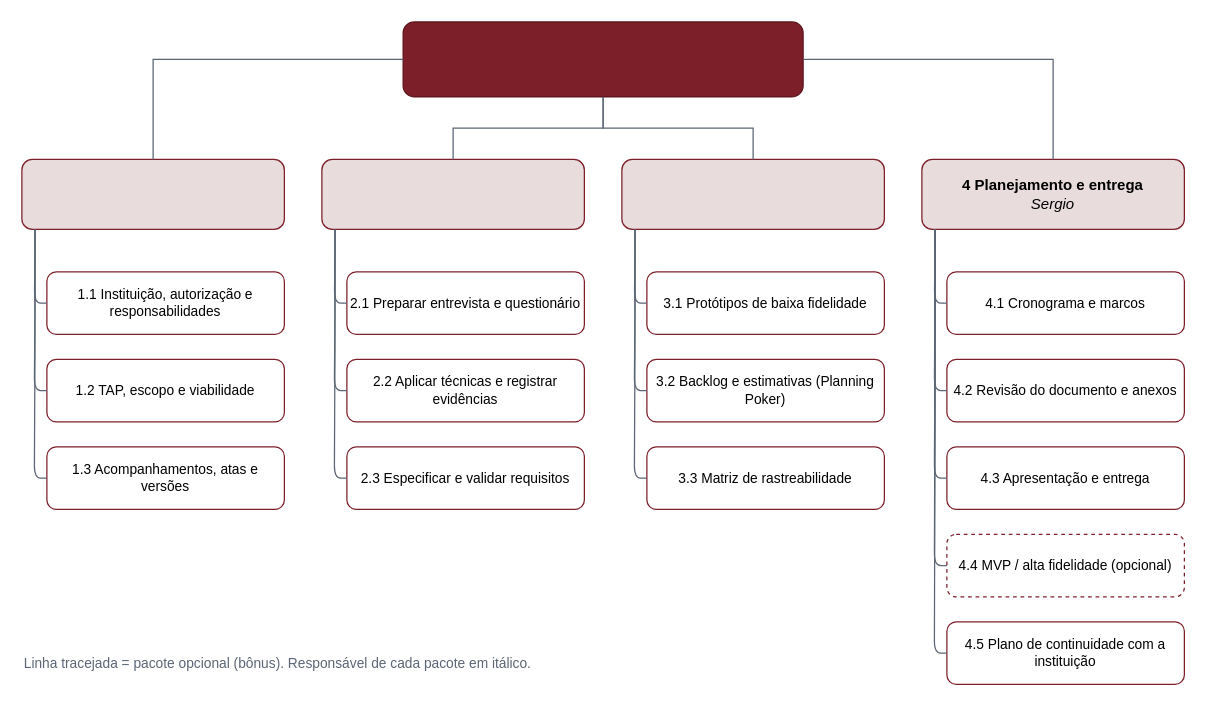
Image size: 1206x706. Some labels were removed from this diagram. The shapes that lost their labels are listed below. From the top down, each one's box as (x1, y1, x2, y2) in pixels, then its label:
(402, 21, 803, 97): Projeto Extensionista — SCCD Sistema de Cadastro e Controle de Doações
(21, 158, 284, 229): 1 Gestão do projeto Leonardo
(321, 158, 584, 229): 2 Levantamento e requisitos Eduardo
(621, 158, 884, 229): 3 Projeto da solução Luca
